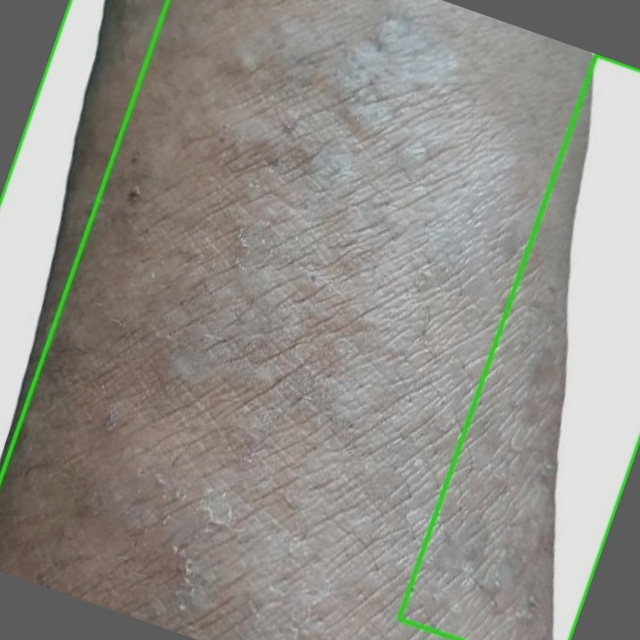Tinea Corporis: (399, 54, 639, 639)
